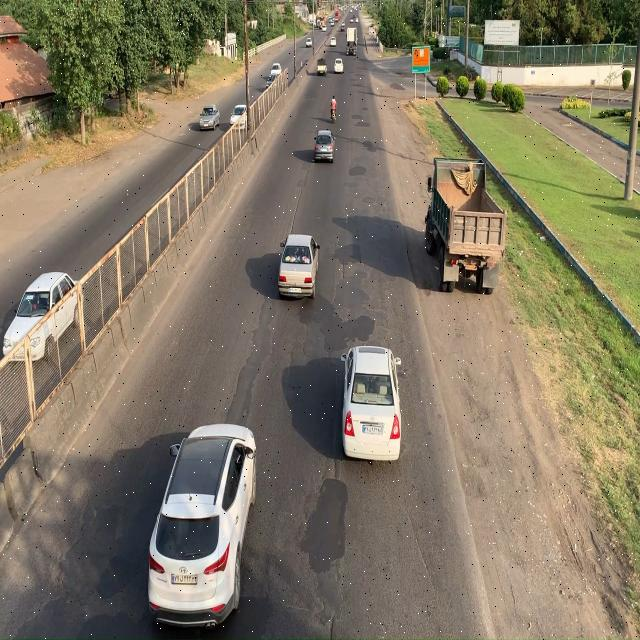Truck: (424, 154, 506, 296)
cars: (151, 422, 257, 628), (2, 270, 83, 367), (342, 342, 403, 465), (280, 232, 320, 300), (313, 125, 338, 167), (230, 95, 250, 134), (199, 97, 220, 134)
